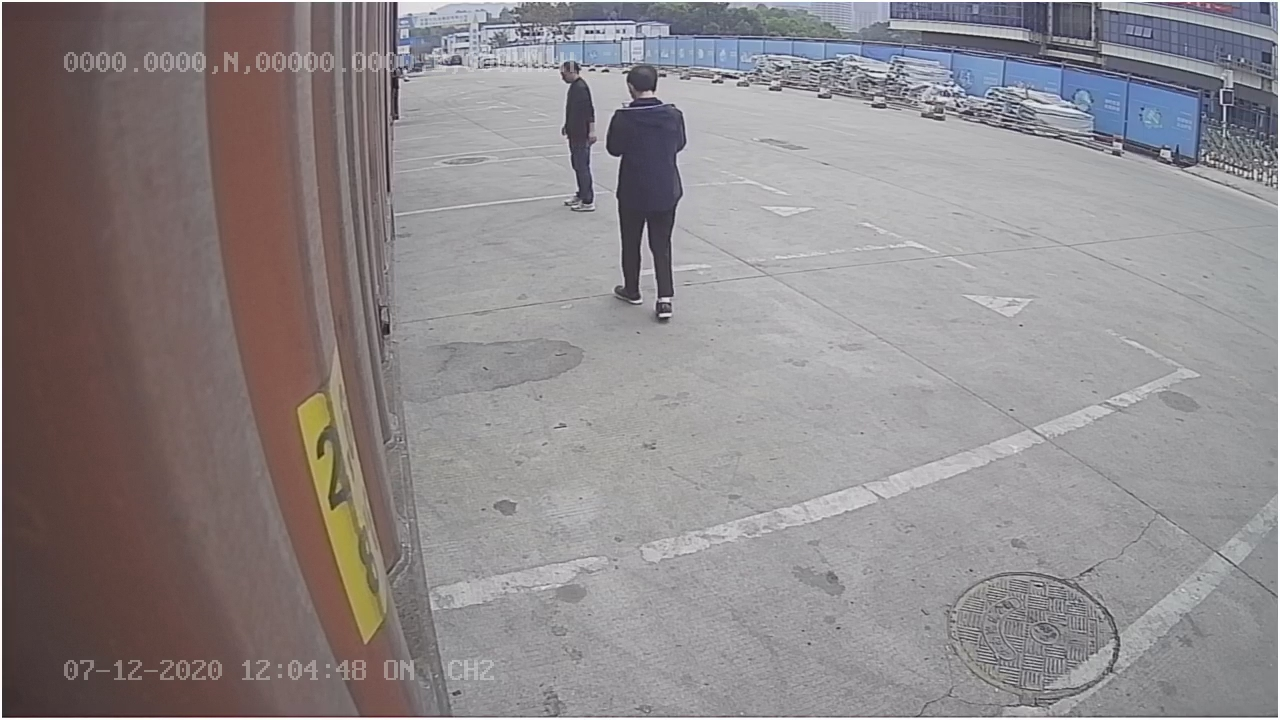person: (607, 59, 691, 323)
